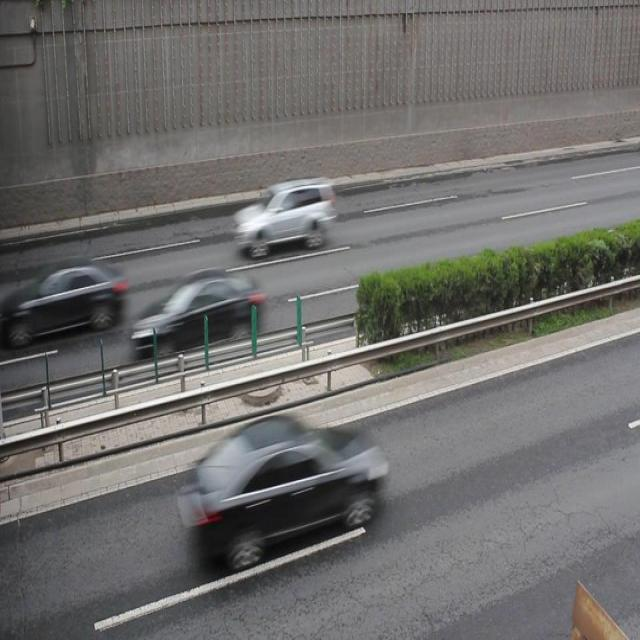car: (179, 417, 384, 564), (133, 269, 263, 358), (13, 260, 124, 342), (235, 176, 334, 258)
